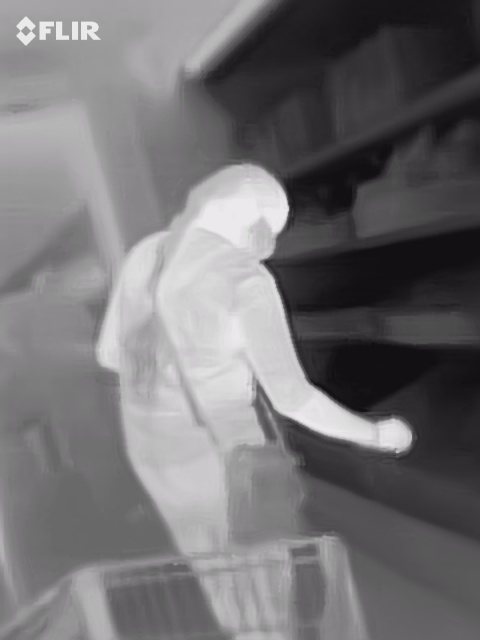head: (195, 161, 288, 259)
